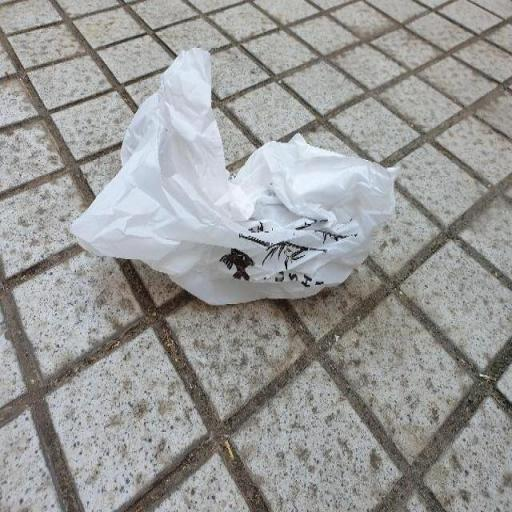plastic-bag: (67, 46, 402, 309)
